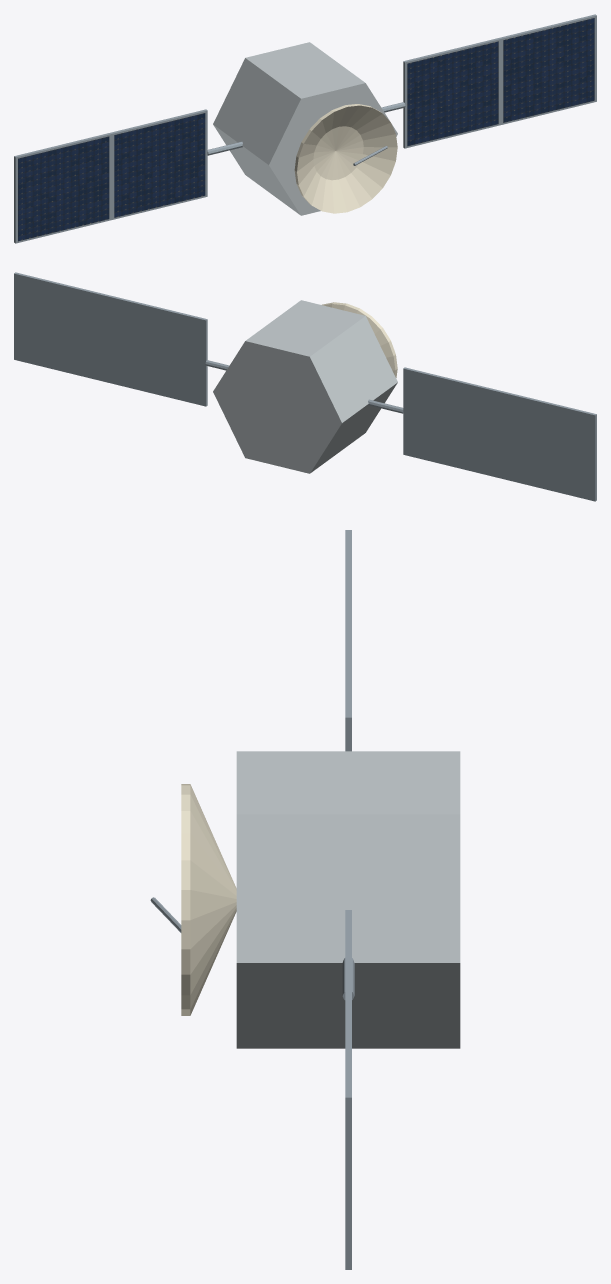
File: ref-qsat-40301.glb
The picture shows the model from 3 angles, top to bottom: view 1: azimuth 30°, elevation 25°; view 2: azimuth 150°, elevation 25°; view 3: azimuth 270°, elevation 25°; orthographic projection. The views are drawn at different scales.
Visible parts, largest first — view 1: Photovoltaic laminates (×4), Spacecraft body, Reflector dish, Array frame (×4); view 2: Array frame (×4), Spacecraft body, Reflector dish; view 3: Spacecraft body, Reflector dish, Array frame.
Boxes of the visible parts, box(x1,y1,x2,y2) form: Photovoltaic laminates (×4): box(18, 18, 594, 241); Spacecraft body: box(213, 42, 397, 215); Reflector dish: box(294, 104, 397, 213); Array frame (×4): box(14, 14, 596, 243); Array frame (×4): box(14, 272, 596, 501); Spacecraft body: box(213, 300, 397, 473); Reflector dish: box(322, 302, 397, 377); Spacecraft body: box(236, 751, 460, 1048); Reflector dish: box(181, 784, 236, 1015); Array frame: box(345, 1003, 351, 1269).
Size of the model in its own units: 3.6 by 0.6928 by 0.8309.
4 materials, 1 textured.
